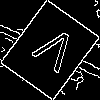V: (25, 24, 81, 81)
